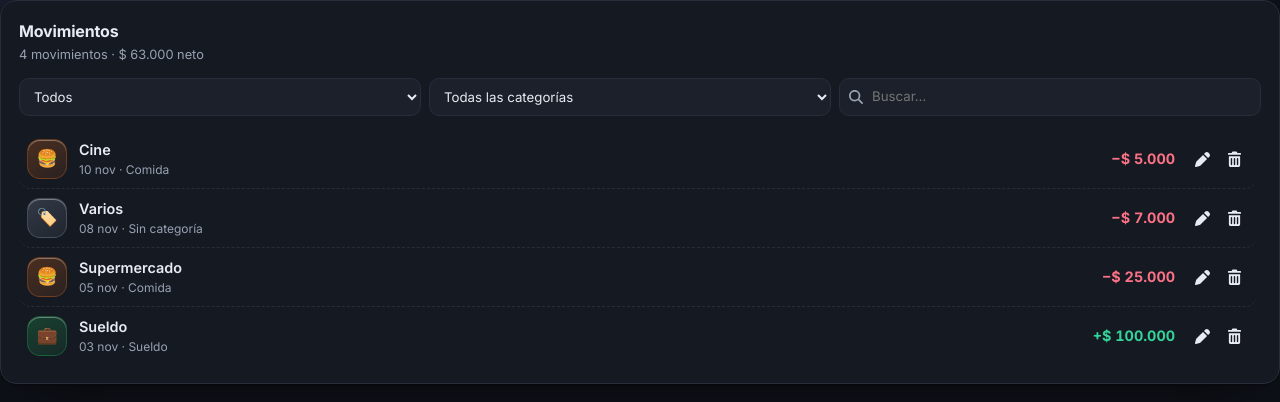
Scenario: TransactionList › busca por nota y permite limpiar los filtros
Step 1. Type "cine" into the search field named "Buscar movimientos" → x=1050, y=97, box left=839, top=78, right=1261, bottom=116
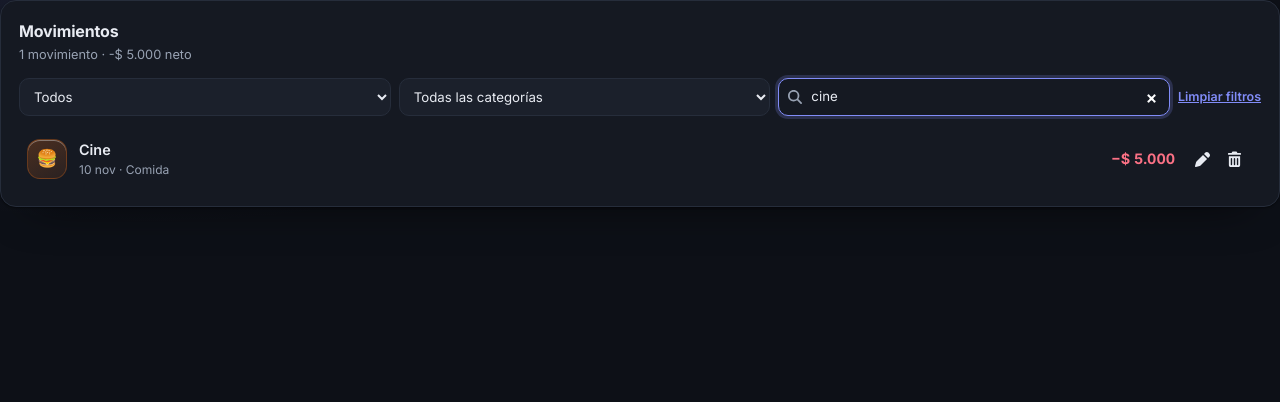
Check: the text "Cine" is shown, box left=79, top=141, right=111, bottom=158
Check: the text "Sueldo" is gone
Check: the text "Supermercado" is gone
Step 2. Click the button "Limpiar filtros" → x=1220, y=97, box left=1178, top=88, right=1261, bottom=106
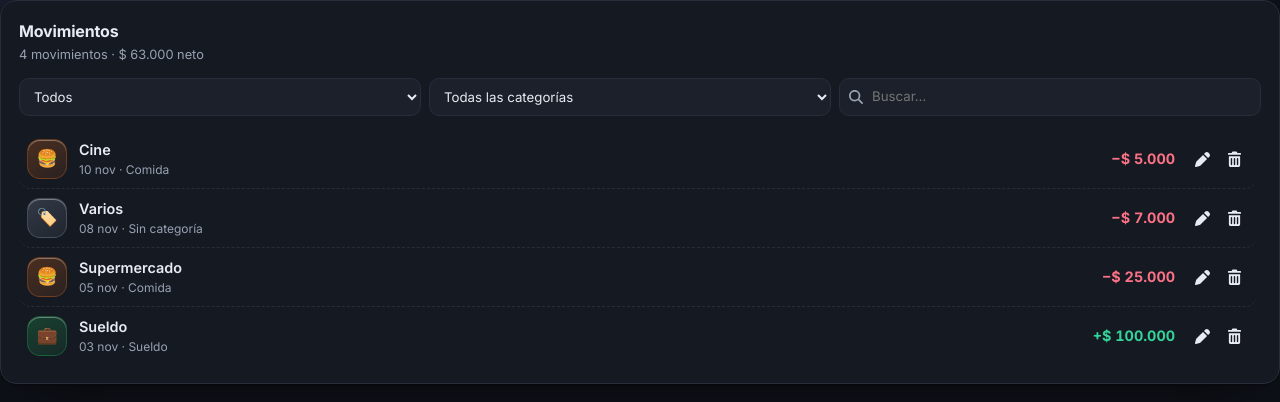
Check: the search field named "Buscar movimientos" is empty, box left=839, top=78, right=1261, bottom=116
Check: the text "Supermercado" is shown, box left=79, top=259, right=182, bottom=276
Check: the button "Limpiar filtros" is gone
